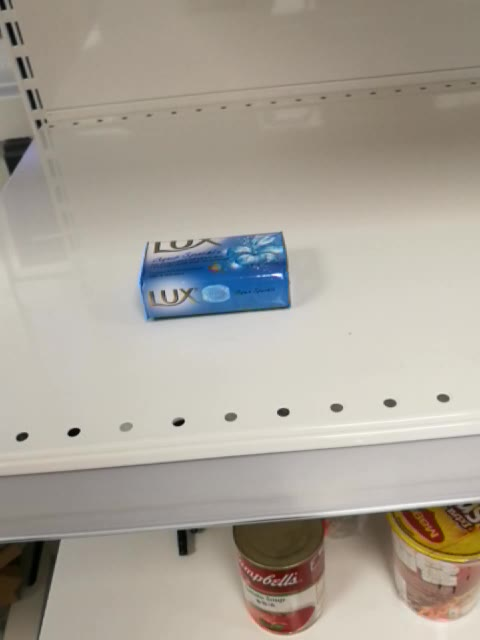soap: (139, 230, 291, 321)
